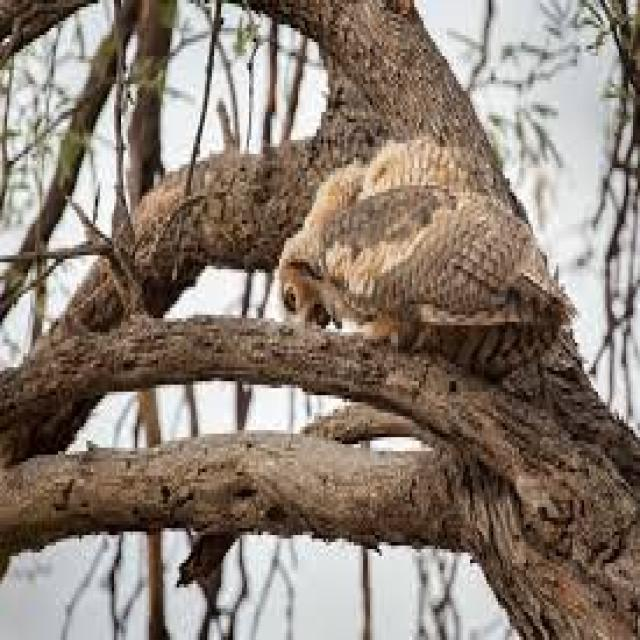Owl: (256, 133, 582, 356)
